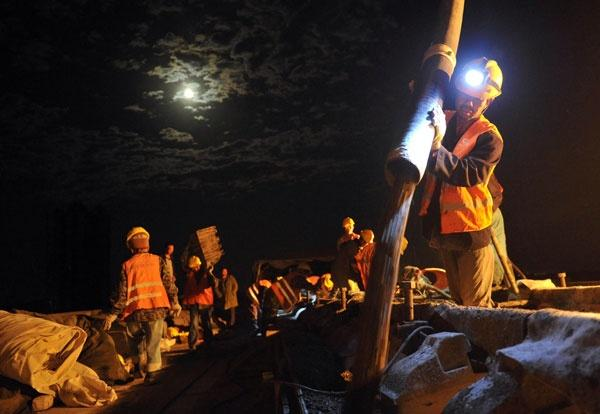Helmet: (454, 57, 505, 117)
Vest: (126, 253, 170, 307)
